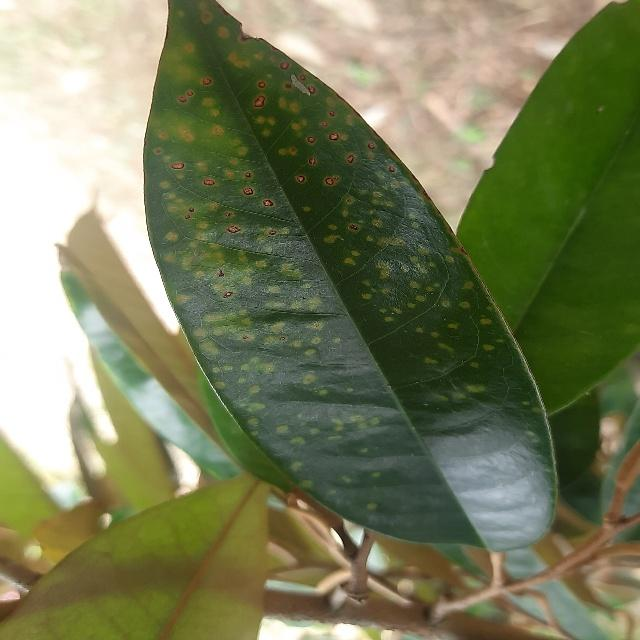Leaf Spot: (132, 0, 569, 563)
